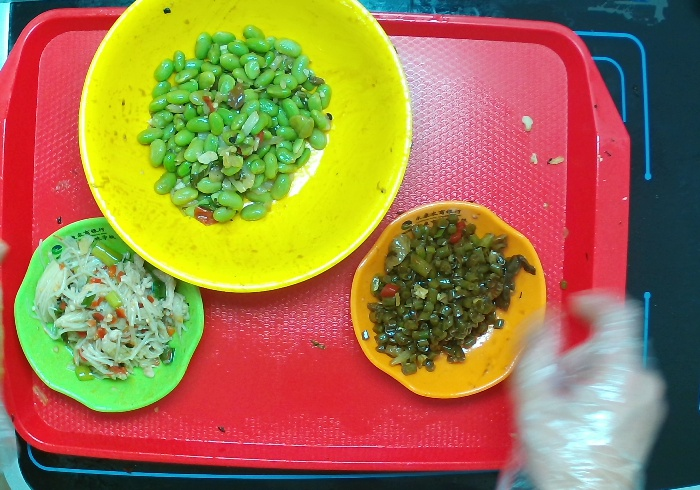YKMZ-Huang_Se_Tang_Wan: (76, 1, 416, 299)
YKMZ-Ju_Se_Ao_Bian_Wan: (348, 199, 551, 403)
YKMZ-Lv_Se_Ao_Bian_Wan: (10, 213, 208, 417)
